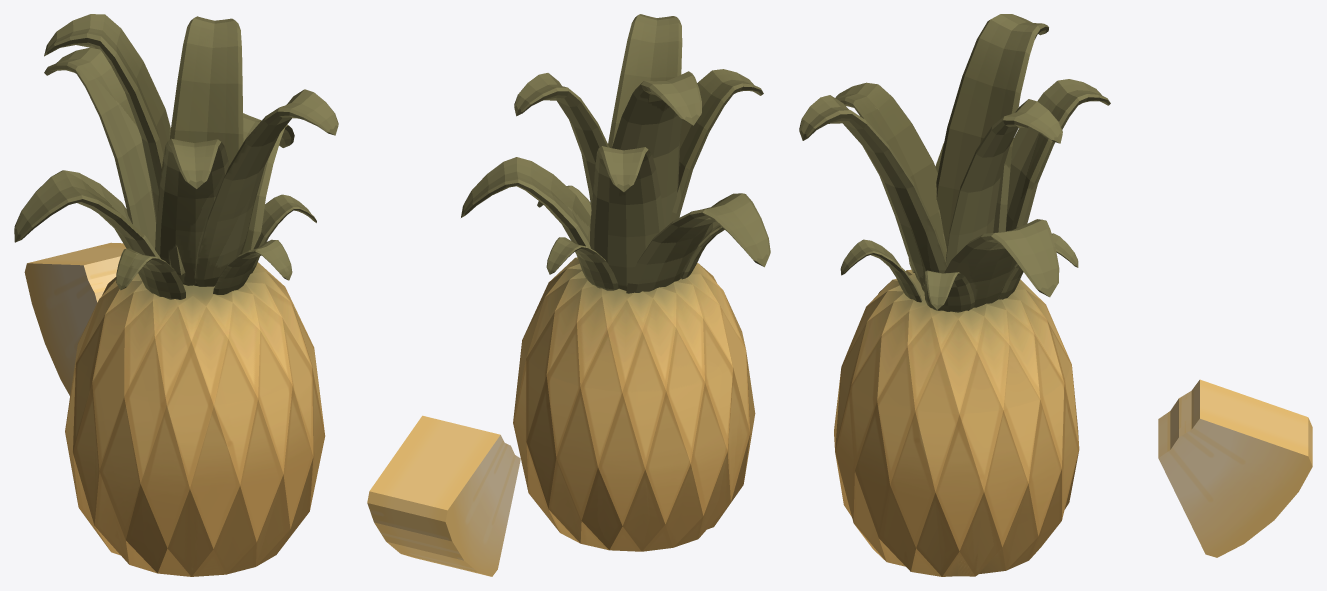
File: Pineapple 1.fbx
The picture shows the model from 3 angles, left to right: view 1: azimuth 30°, elevation 25°; view 2: azimuth 150°, elevation 25°; view 3: azimuth 270°, elevation 25°; orthographic projection. The views are drawn at different scales.
Parts seen in each view (by area): view 1: Cylinder.002, Cylinder.005, Cylinder; view 2: Cylinder.002, Cylinder.005, Cylinder; view 3: Cylinder.002, Cylinder.005, Cylinder.
Part boxes in pixels (left/top/right/bottom): Cylinder.002: left=65, top=262, right=325, bottom=576; Cylinder.005: left=14, top=14, right=338, bottom=299; Cylinder: left=24, top=242, right=126, bottom=395; Cylinder.002: left=513, top=257, right=755, bottom=551; Cylinder.005: left=461, top=14, right=770, bottom=293; Cylinder: left=367, top=415, right=520, bottom=576; Cylinder.002: left=834, top=269, right=1079, bottom=576; Cylinder.005: left=799, top=14, right=1110, bottom=312; Cylinder: left=1158, top=379, right=1312, bottom=557.
Bounding box in the file's own units: 55.94 × 93.45 × 86.7.
Materials: 3 (3 with a texture image).
